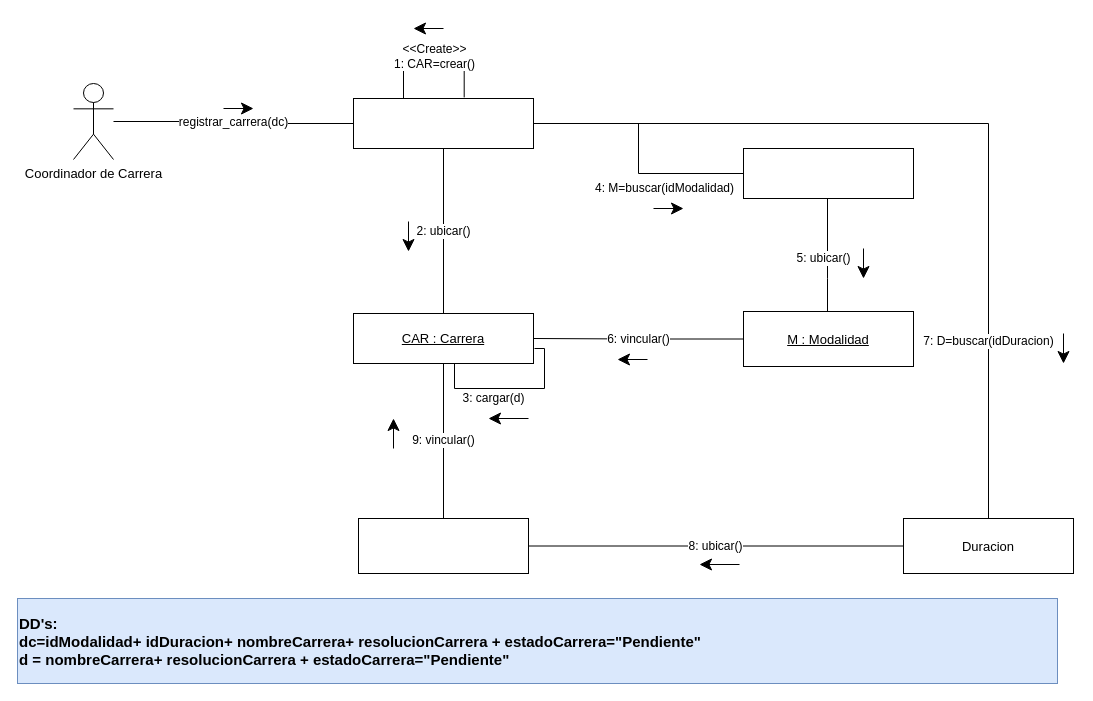
Some shapes in this 1093 by 701 pixel diagram are drawn without their labels. The box of each missing label's shape, as (x1, y1, x2, y2) in pixels:
Carrera: (352, 98, 534, 148)
D : Duracion: (358, 518, 528, 574)
Modalidad: (742, 148, 914, 198)
